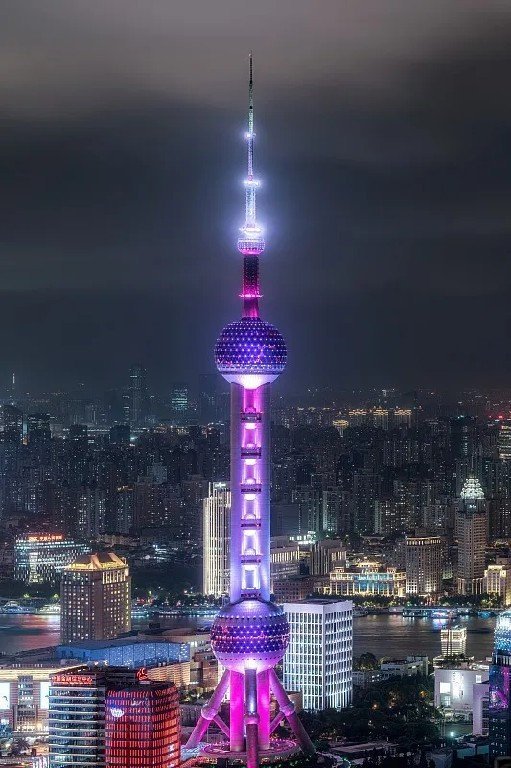Oriental: (186, 50, 319, 766)
